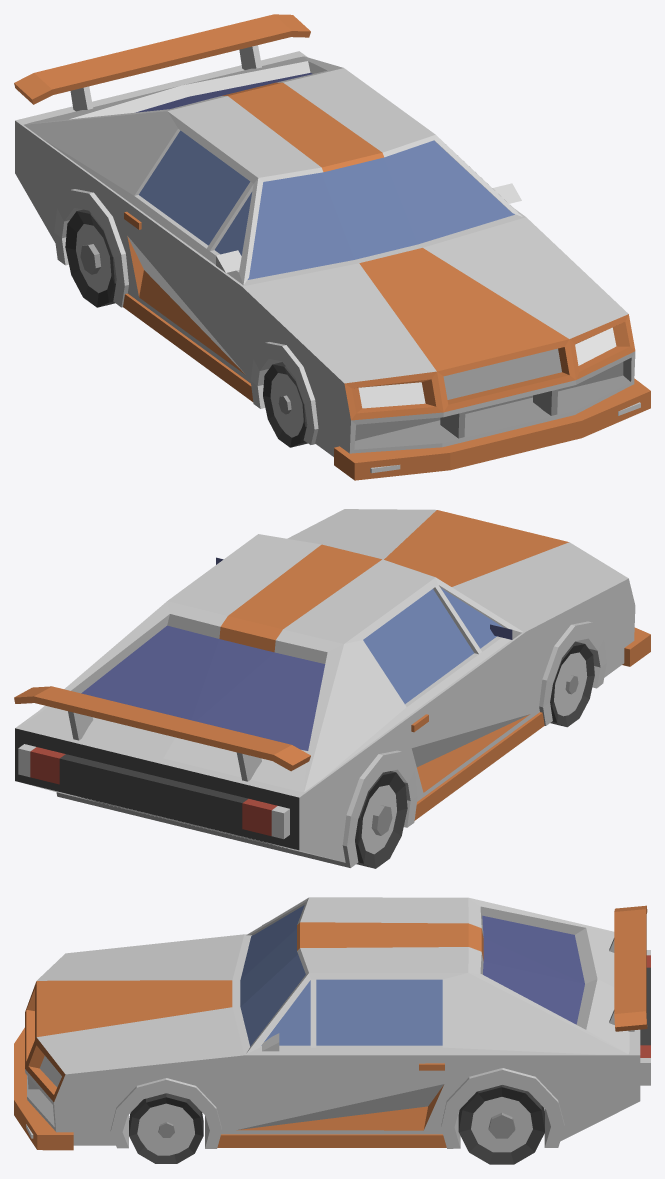
The model's file is transport_sport_004.fbx.
3 views of the same model, one above another, from view 1: azimuth 30°, elevation 25°; view 2: azimuth 150°, elevation 25°; view 3: azimuth 270°, elevation 25° (orthographic). The views are drawn at different scales.
Parts seen in each view (by area): view 1: transport_sport_004; view 2: transport_sport_004; view 3: transport_sport_004.
Part boxes in pixels (left/top/right/bottom): transport_sport_004: left=14, top=14, right=650, bottom=480; transport_sport_004: left=14, top=509, right=650, bottom=868; transport_sport_004: left=14, top=897, right=650, bottom=1164.
Size of the model in its own units: 181 by 111 by 384.
